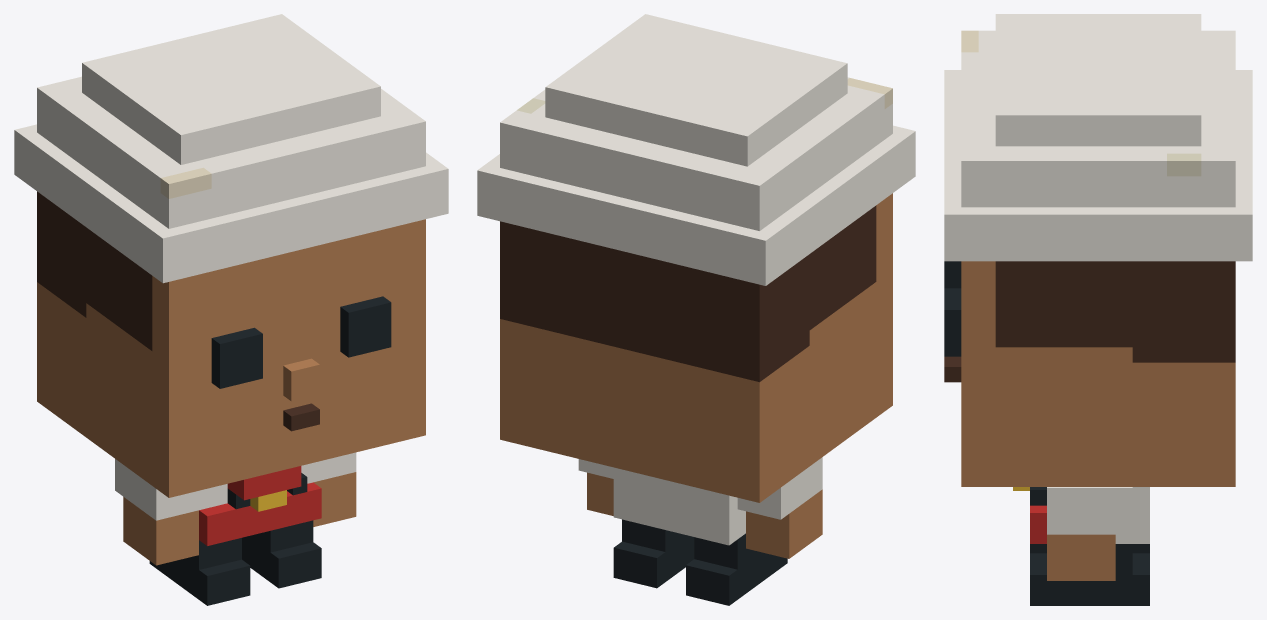
The model's file is chef.glb.
3 views of the same model, side by side, from view 1: azimuth 30°, elevation 25°; view 2: azimuth 150°, elevation 25°; view 3: azimuth 270°, elevation 25° (orthographic). The views are drawn at different scales.
Visible parts, largest first — view 1: head, torso, arm_left, leg_left, leg_right, arm_right; view 2: head, torso, arm_left, leg_left, leg_right, arm_right; view 3: head, arm_right, leg_right, torso.
Part boxes in pixels (left/top/right/bottom): head: left=14, top=14, right=448, bottom=497; torso: left=199, top=463, right=321, bottom=545; arm_left: left=115, top=459, right=198, bottom=565; leg_left: left=149, top=538, right=250, bottom=605; leg_right: left=242, top=520, right=321, bottom=588; arm_right: left=313, top=452, right=356, bottom=526; head: left=477, top=14, right=915, bottom=502; torso: left=613, top=467, right=745, bottom=545; arm_left: left=737, top=457, right=822, bottom=558; leg_left: left=686, top=533, right=787, bottom=605; leg_right: left=613, top=519, right=694, bottom=588; arm_right: left=578, top=459, right=613, bottom=515; head: left=944, top=14, right=1252, bottom=486; arm_right: left=1047, top=487, right=1132, bottom=580; leg_right: left=1030, top=544, right=1149, bottom=605; torso: left=1013, top=487, right=1149, bottom=543.
Bounding box in the file's own units: 1 × 1.65 × 0.9.
1 material, 1 textured.
